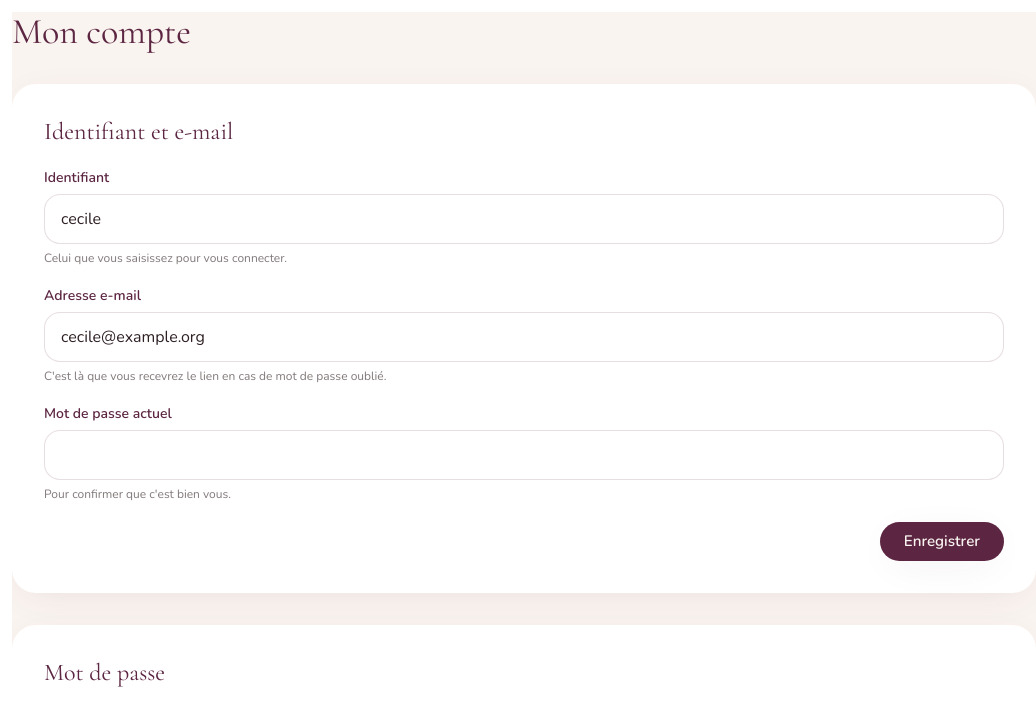
Test case: Mon compte › saves the new details and updates the header's session
Replace the text in the field labelled "Identifiant" with "cecile.m": (524, 219) [44,194,1004,244]
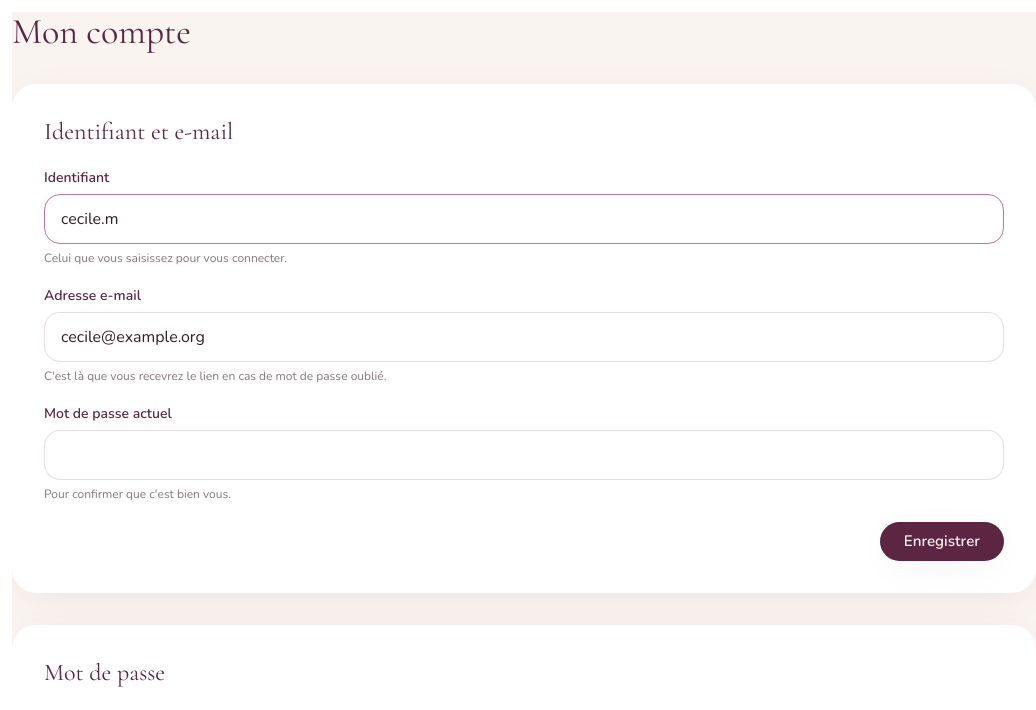
In the password field labelled "Mot de passe actuel" below "Adresse e-mail": (524, 455) [44,430,1004,480], type "secret"
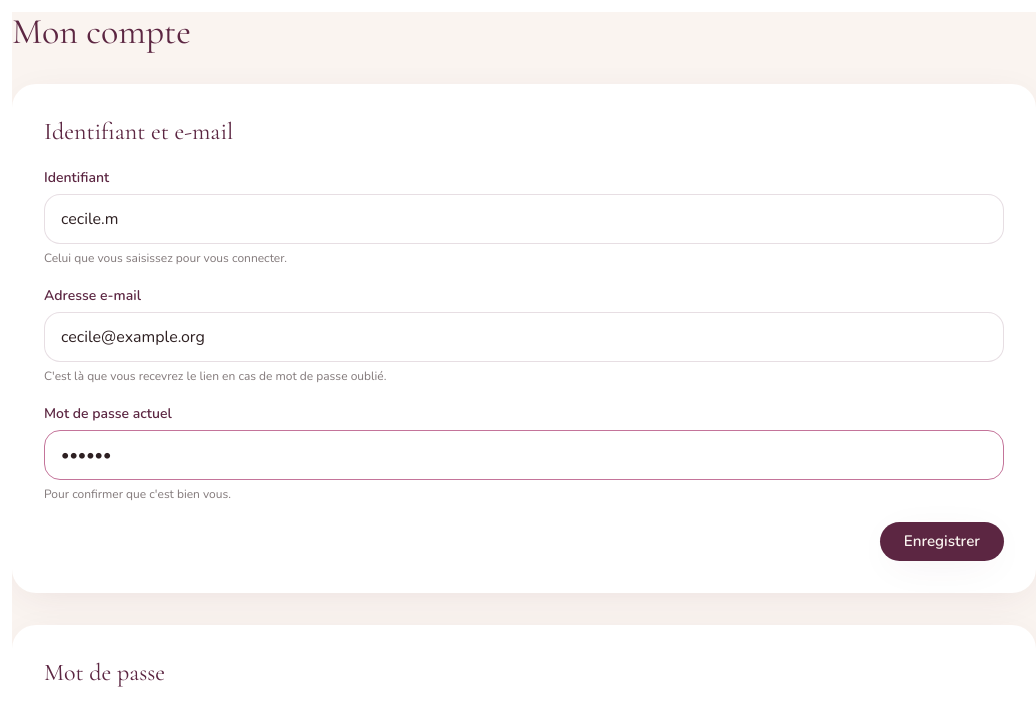
Click the button "Enregistrer": (942, 542) [880,522,1004,561]
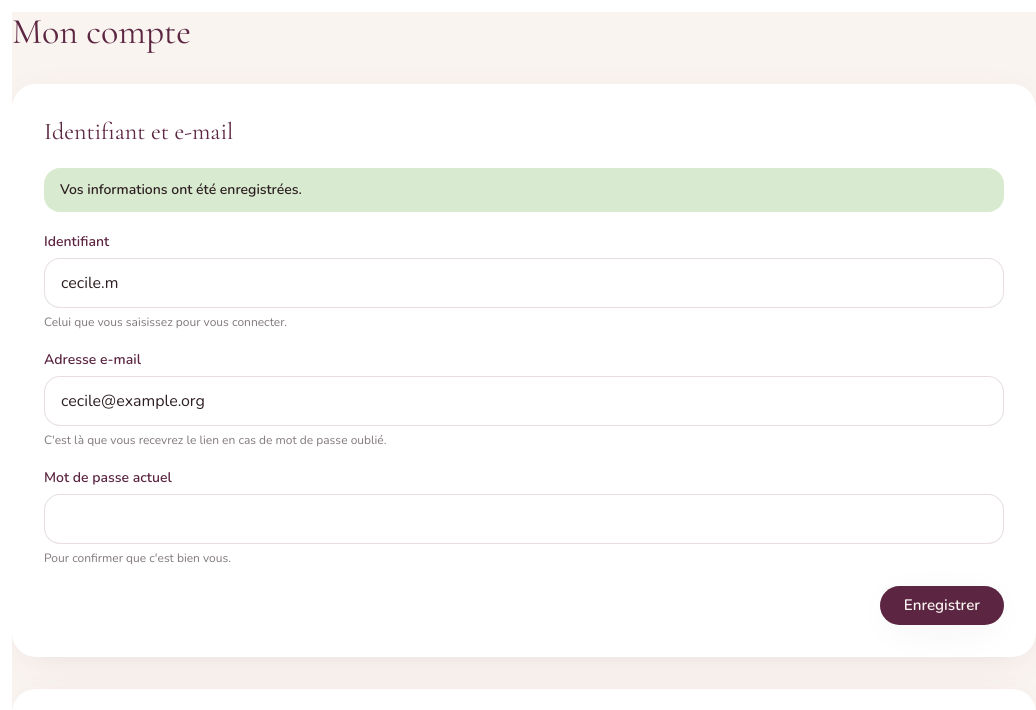
Expected: the text "Vos informations ont été enregistrées." is shown, [44,168,1004,212]
